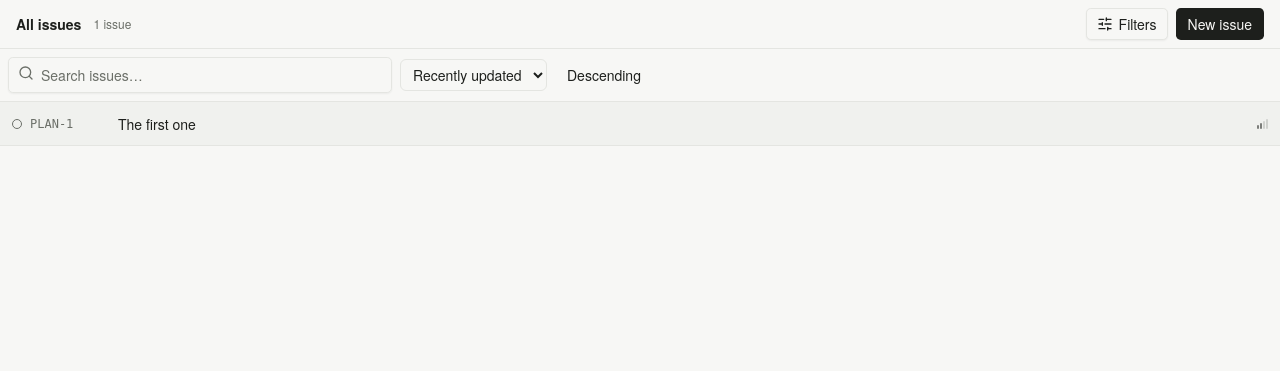
offers Any, me and none where the contract does
Expected: the text "The first one" is shown, x1=118 y1=114 x2=196 y2=134
Click the button "Filters" at (1127, 24), box x1=1086 y1=8 x2=1168 y2=40
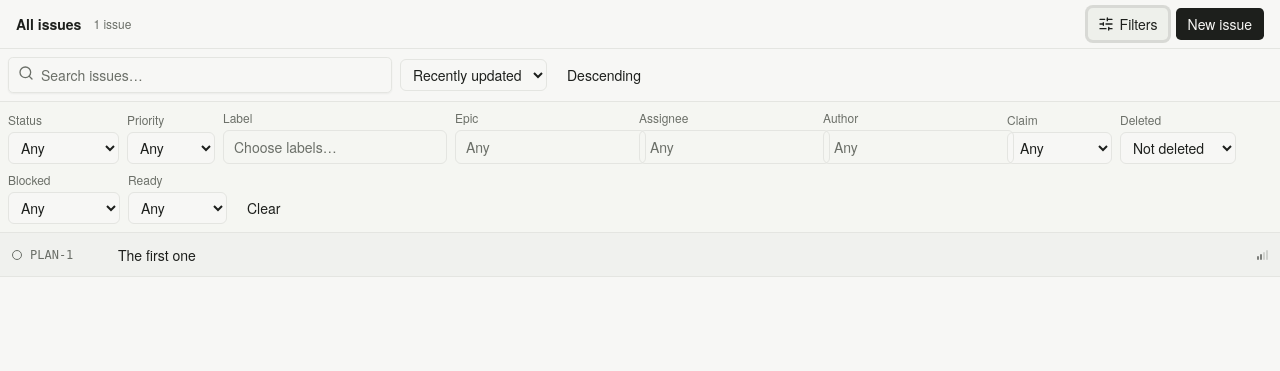
Click the dropdown labelled "Assignee" at (734, 147), box x1=646 y1=135 x2=823 y2=159
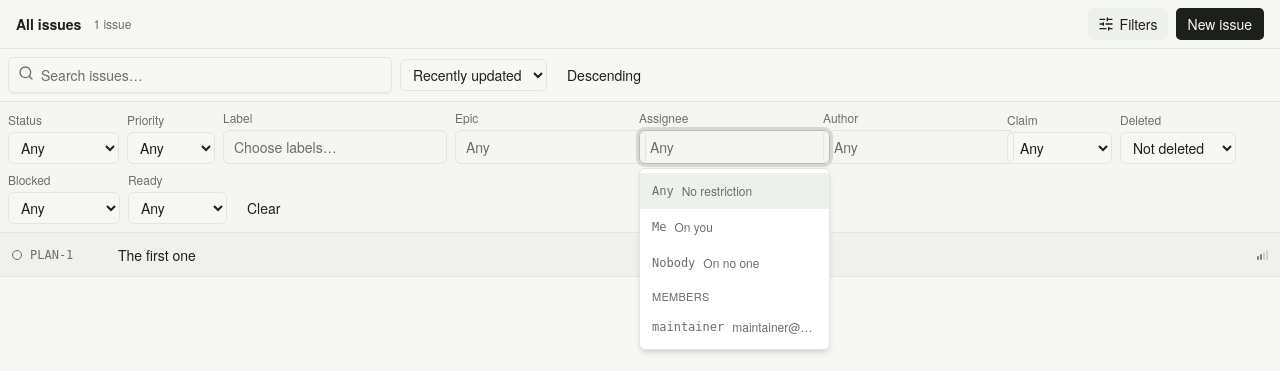
Result: the text "Any" is shown at x1=652 y1=183 x2=674 y2=199
Result: the text "Me" is shown at x1=652 y1=219 x2=666 y2=235
Result: the text "Nobody" is shown at x1=652 y1=255 x2=695 y2=271
